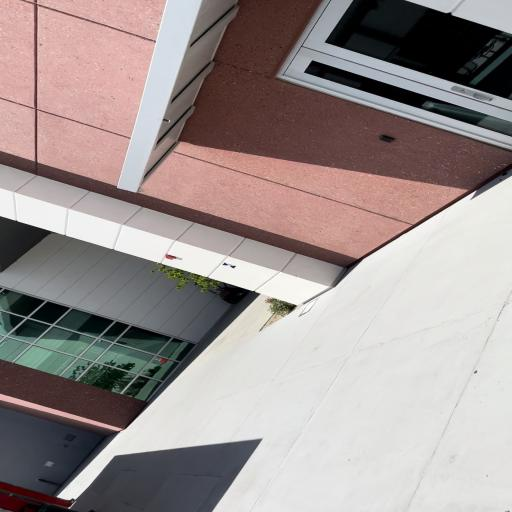target6: (222, 262, 237, 269)
